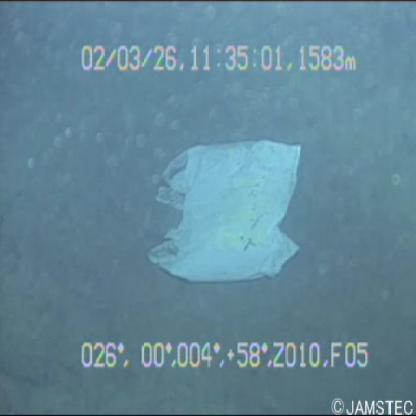Rác: (137, 128, 305, 296)
